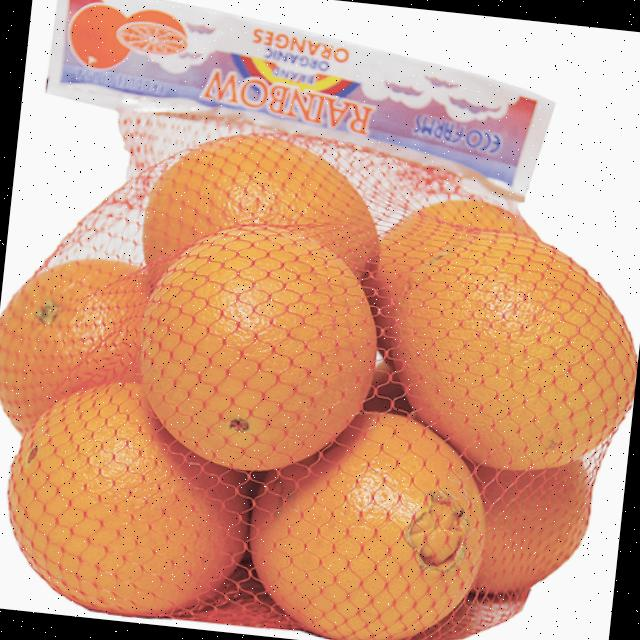orange: (123, 210, 394, 483), (377, 218, 640, 494), (0, 378, 257, 622), (241, 399, 497, 640), (132, 120, 392, 300), (0, 245, 173, 459)
